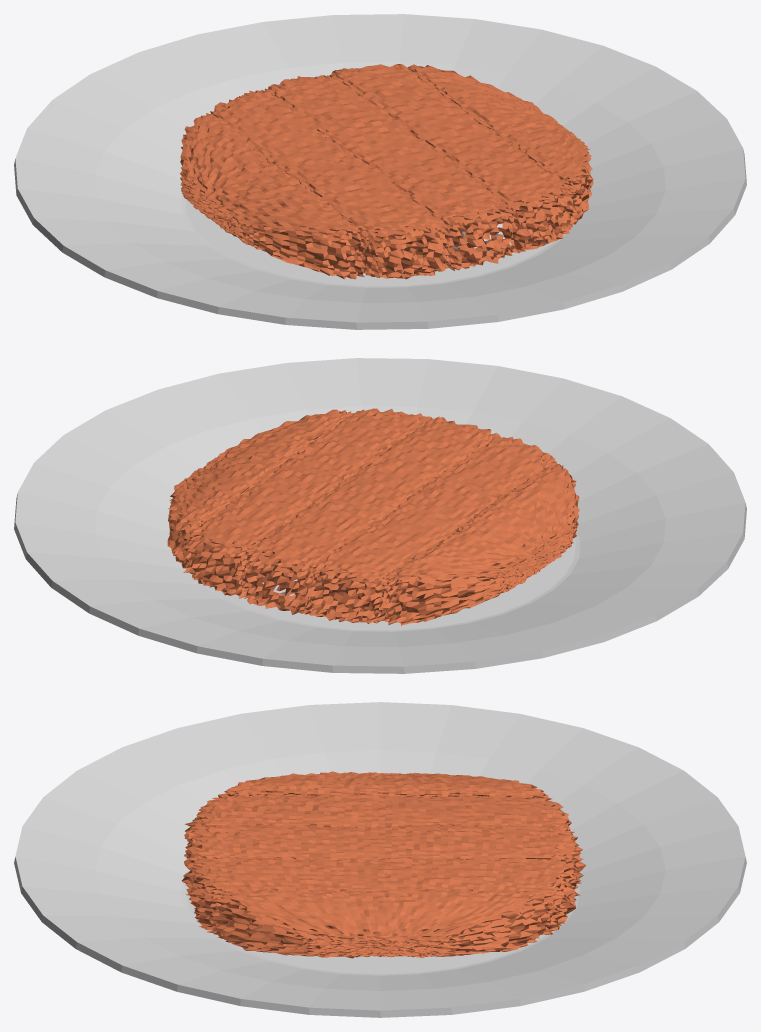
The model's file is pork_cutlet.fbx.
The picture shows the model from 3 angles, top to bottom: view 1: azimuth 30°, elevation 25°; view 2: azimuth 150°, elevation 25°; view 3: azimuth 270°, elevation 25°; orthographic projection.
Parts seen in each view (by area): view 1: 원형.037, 돈가스(조각); view 2: 원형.037, 돈가스(조각); view 3: 원형.037, 돈가스(조각).
Part boxes in pixels (x1,y1,x2,y2): 원형.037: (14, 14, 746, 329); 돈가스(조각): (180, 64, 593, 279); 원형.037: (14, 358, 746, 673); 돈가스(조각): (167, 408, 579, 625); 원형.037: (14, 702, 746, 1017); 돈가스(조각): (182, 771, 586, 958).
Size of the model in its own units: 293 by 33.77 by 293.
